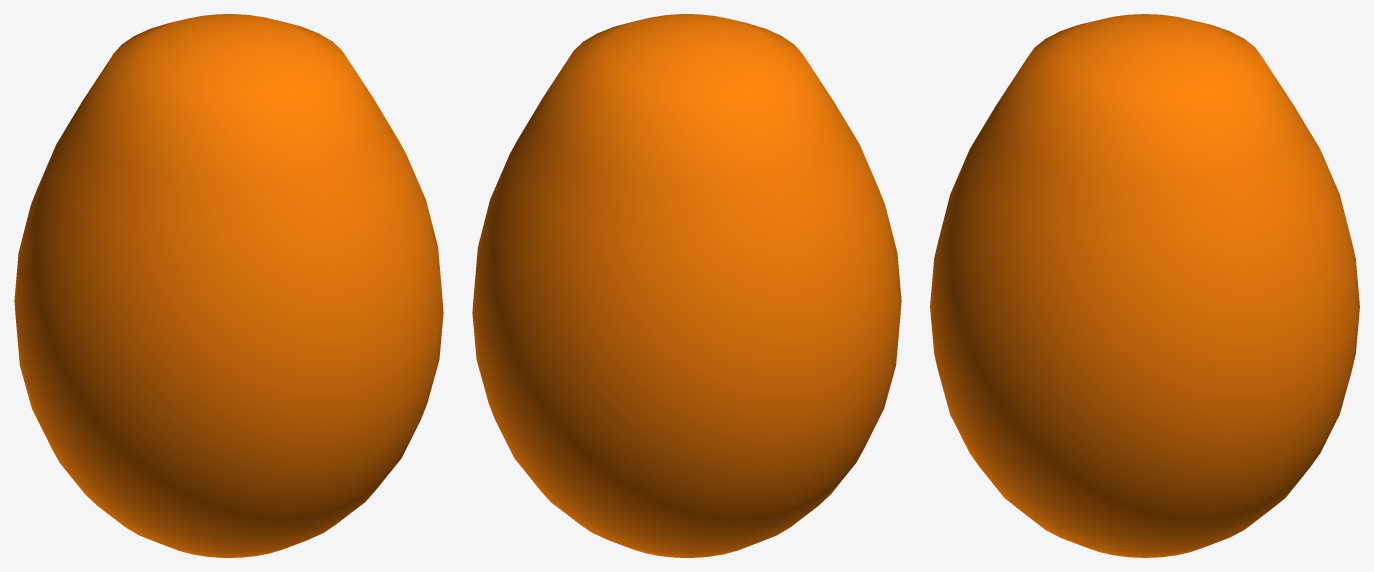
The model's file is Teddy_body.fbx.
The picture shows the model from 3 angles, left to right: view 1: azimuth 30°, elevation 25°; view 2: azimuth 150°, elevation 25°; view 3: azimuth 270°, elevation 25°; orthographic projection.
Parts seen in each view (by area): view 1: Sphere.007; view 2: Sphere.007; view 3: Sphere.007.
Part boxes in pixels (bbox=[...]): Sphere.007: bbox=[14, 14, 443, 557]; Sphere.007: bbox=[472, 14, 901, 557]; Sphere.007: bbox=[930, 14, 1359, 557].
Bounding box in the file's own units: 200 × 260 × 200.
